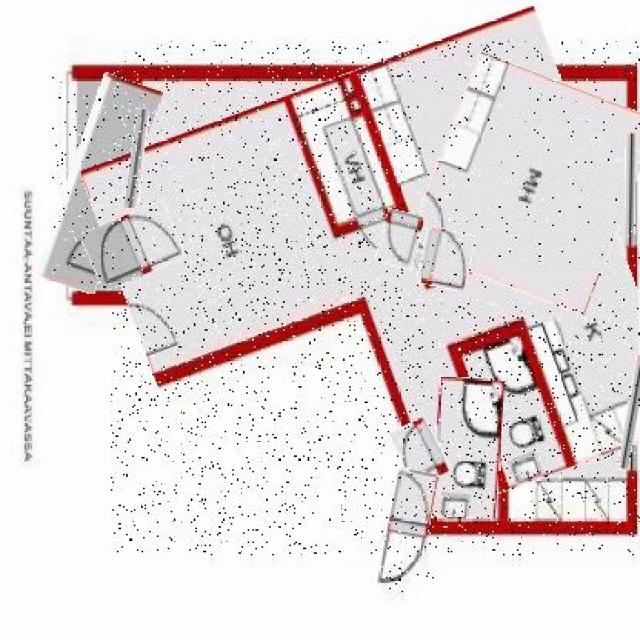door: (86, 208, 182, 284), (381, 470, 434, 592), (394, 418, 446, 484), (420, 229, 472, 289), (378, 210, 422, 268)
window: (620, 356, 640, 470), (128, 108, 146, 208), (626, 132, 636, 248)
zone: (111, 40, 640, 555), (421, 66, 640, 303), (52, 75, 148, 292), (434, 378, 501, 517)
